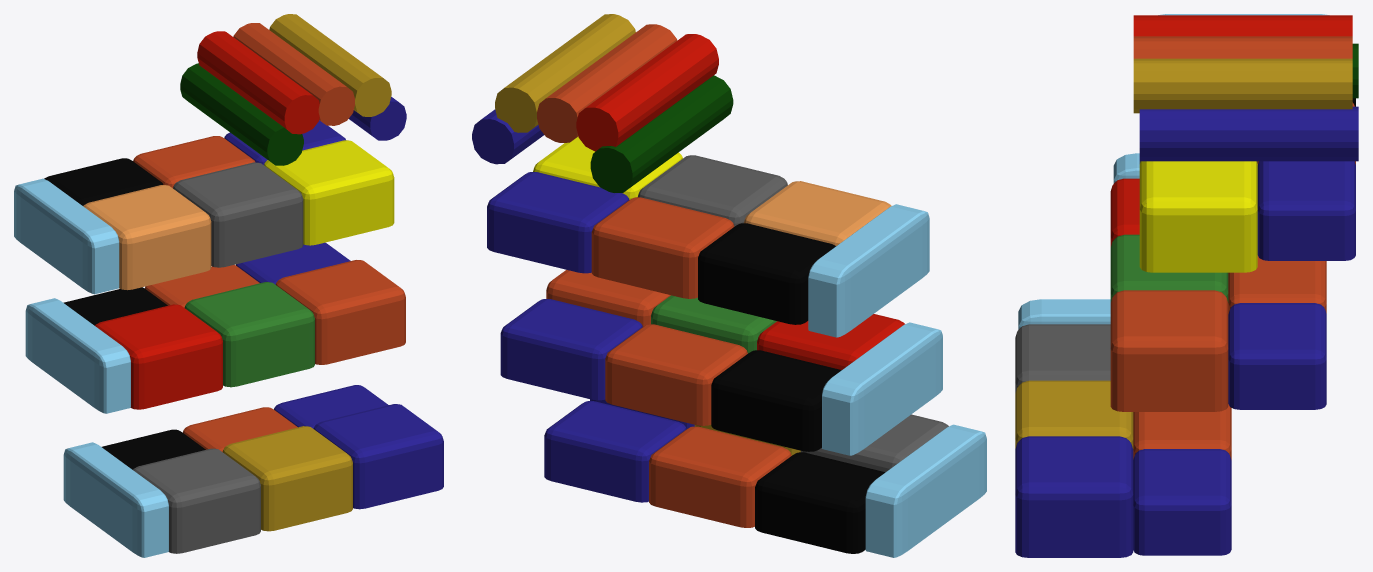
File: Roupas.fbx
3 views of the same model, side by side, from view 1: azimuth 30°, elevation 25°; view 2: azimuth 150°, elevation 25°; view 3: azimuth 270°, elevation 25° (orthographic). The views are drawn at different scales.
Visible parts, largest first — view 1: Cubo.006, Cubo.014, Cubo.013, Cubo.025; view 2: Cubo.014, Cubo.013, Cubo.006, Cubo.025; view 3: Cubo.006, Cubo.013, Cubo.025, Cubo.014.
Boxes of the visible parts, box(x1,y1,x2,y2) form: Cubo.006: box(63, 385, 443, 557); Cubo.014: box(14, 120, 394, 294); Cubo.013: box(25, 242, 405, 413); Cubo.025: box(180, 14, 406, 165); Cubo.014: box(487, 136, 929, 337); Cubo.013: box(500, 270, 942, 455); Cubo.006: box(544, 399, 986, 557); Cubo.025: box(472, 14, 733, 192); Cubo.006: box(1015, 299, 1231, 557); Cubo.013: box(1110, 153, 1326, 411); Cubo.025: box(1133, 15, 1358, 161); Cubo.014: box(1139, 14, 1355, 272).
Bounding box in the file's own units: 3464 × 4034 × 2620.
